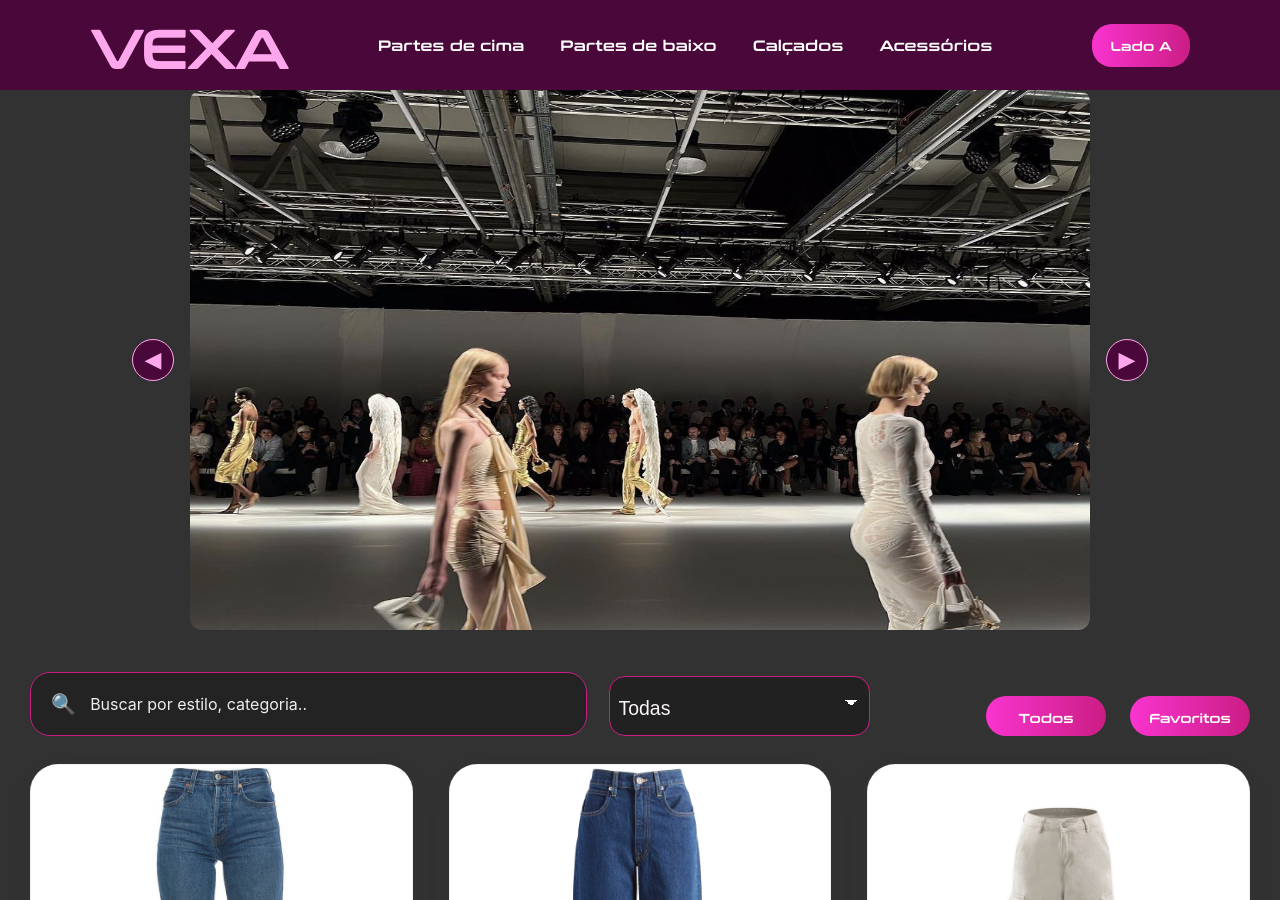
Test: Navegação entre os lados › catálogo -> botão "Lado A" leva ao login, que leva às informações
Click the link "Lado A" at (1141, 46), box [1092,24,1190,67]
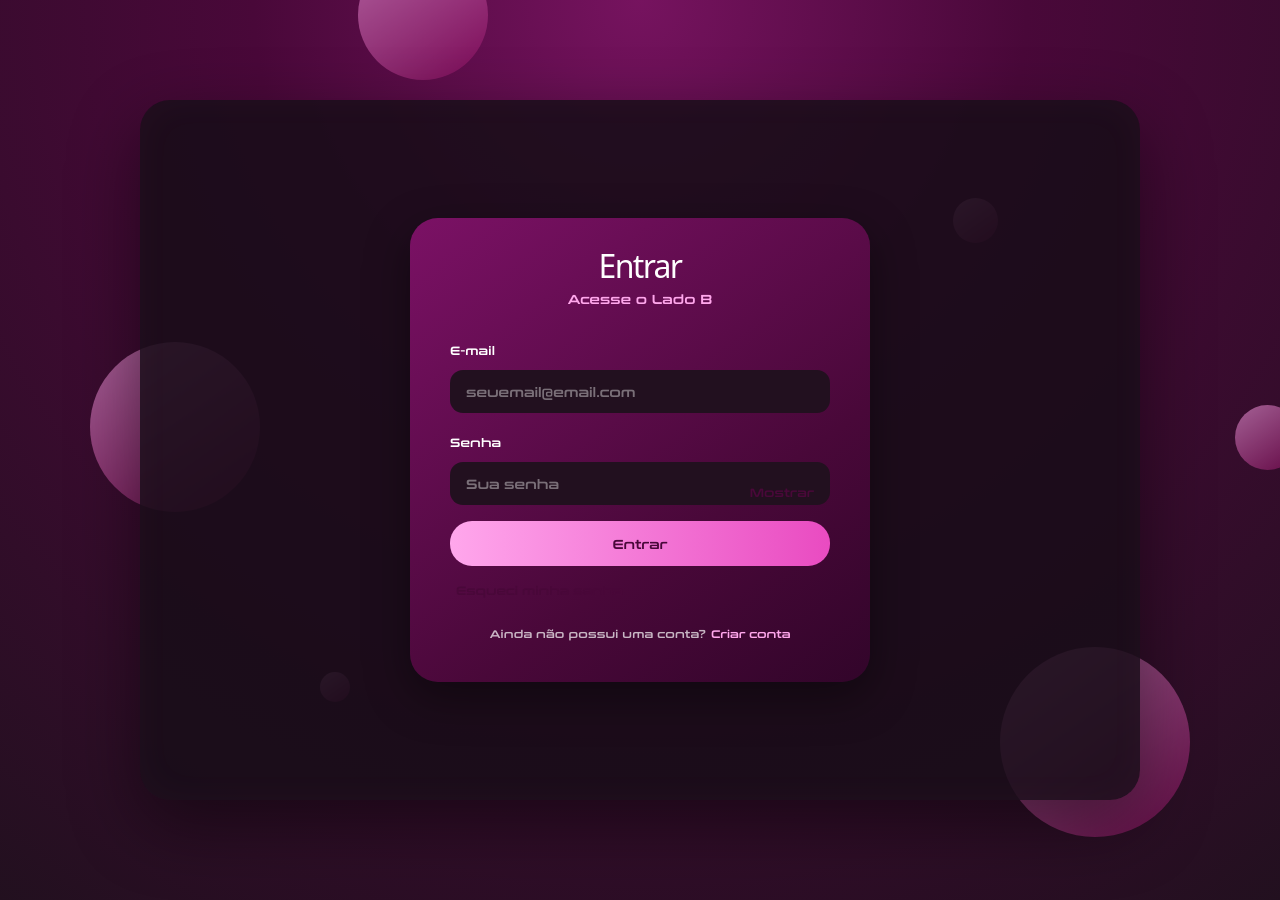
Expected: the heading "Entrar" is shown, [599,244,681,287]
